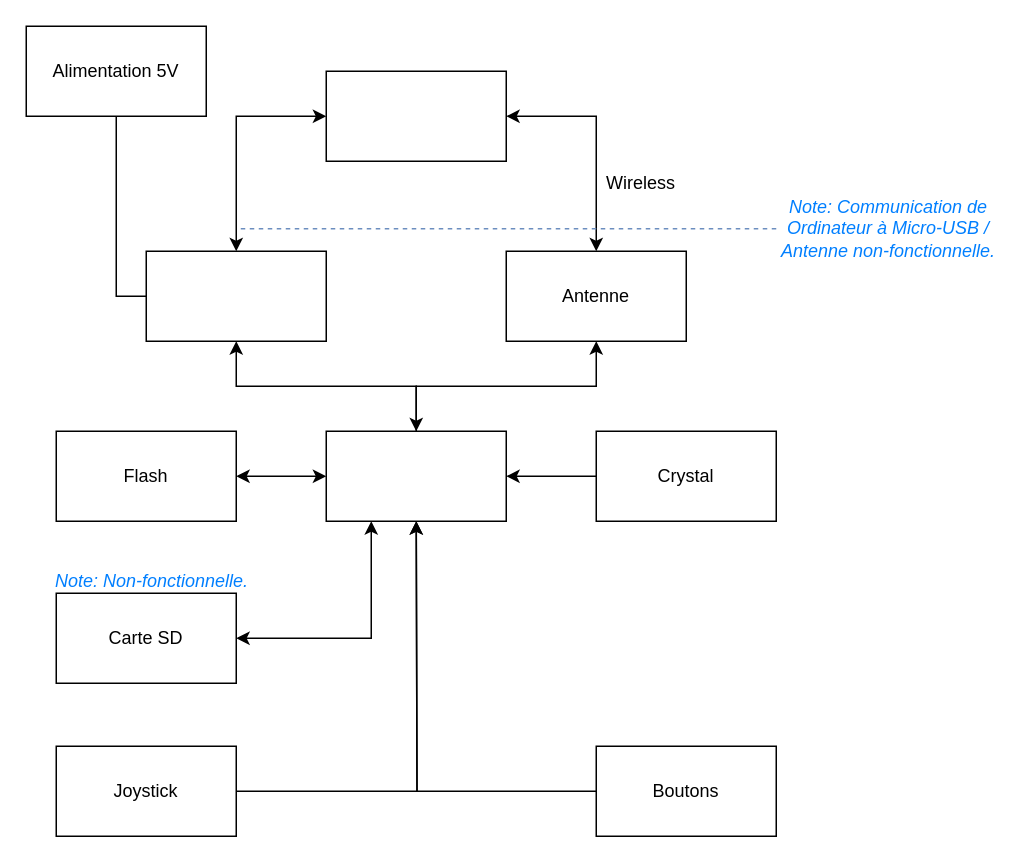
This 1028x863 diagram has some shape labels left out. The centre of each missing label's shape, as x and y in pixels:
"Micro-USB" belongs at (x=235, y=295).
"Microcontrôleur" belongs at (x=415, y=475).
"Ordinateur" belongs at (x=415, y=115).
